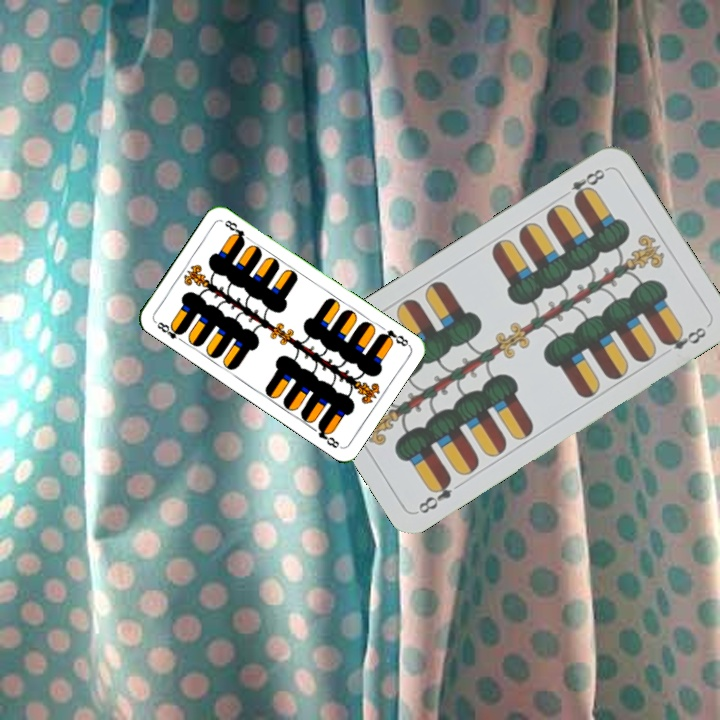E8: (557, 164, 610, 204), (414, 473, 455, 517), (153, 318, 187, 345), (375, 326, 411, 349)
